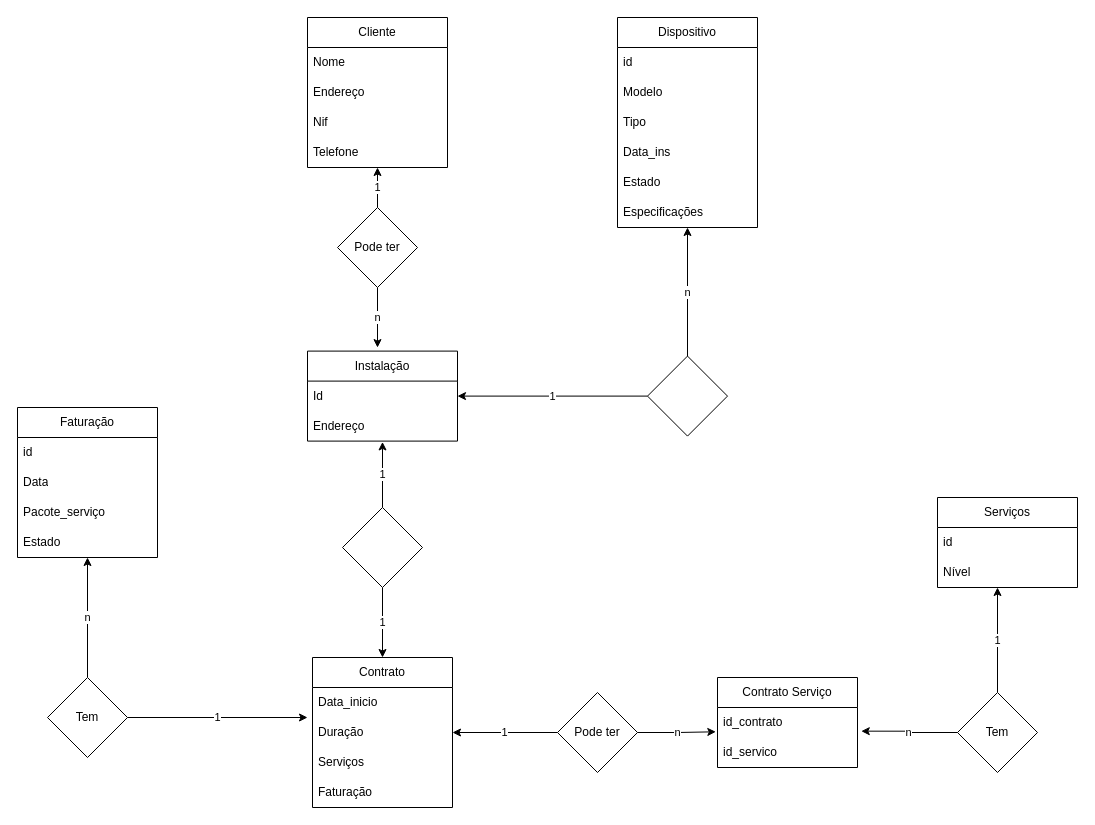
Image size: 1095x825. Some labels were removed from this diagram. Here are the shapes that lost their labels. From the top down, the centre of each, then its label:
point 687,395: Tem vários
point 382,547: É coberto
